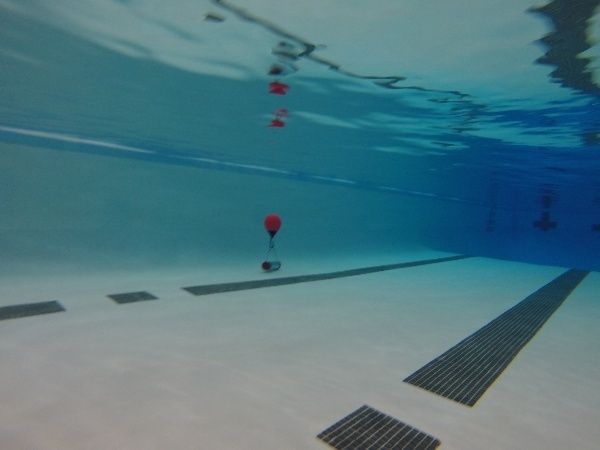buoy_red: (261, 213, 283, 240)
